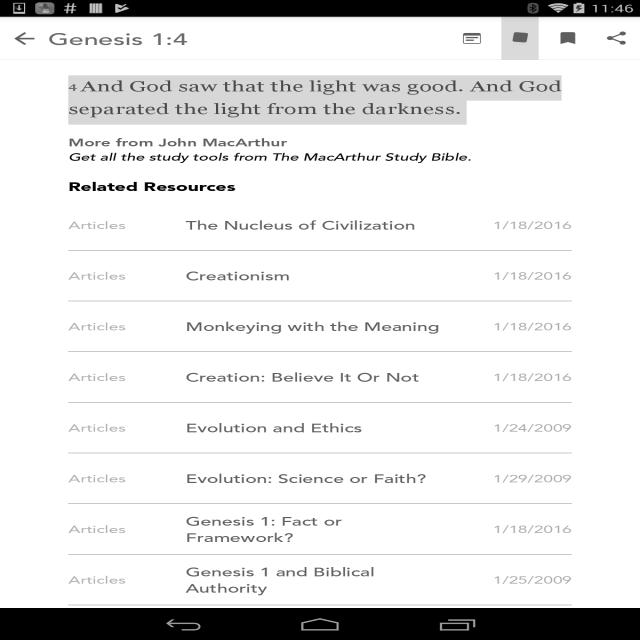ImageView: (0, 17, 640, 608), (5, 17, 43, 60), (453, 17, 491, 60), (501, 17, 539, 60), (549, 17, 587, 60), (597, 17, 635, 60)
TextView: (68, 75, 572, 125), (68, 173, 572, 200), (186, 511, 454, 547), (186, 562, 454, 598), (68, 134, 572, 151), (68, 151, 572, 164), (186, 316, 440, 336), (186, 468, 426, 488), (186, 367, 420, 387), (186, 215, 416, 235), (48, 25, 188, 52), (185, 418, 362, 437), (68, 267, 186, 284), (454, 267, 572, 284), (68, 318, 186, 335), (454, 318, 572, 335), (68, 419, 186, 436), (454, 419, 572, 436), (68, 470, 186, 487), (454, 470, 572, 487), (68, 571, 186, 588), (454, 571, 572, 588), (186, 266, 290, 285), (68, 217, 186, 233), (454, 217, 572, 233), (68, 369, 186, 385), (454, 369, 572, 385), (68, 521, 186, 537), (454, 521, 572, 537)
